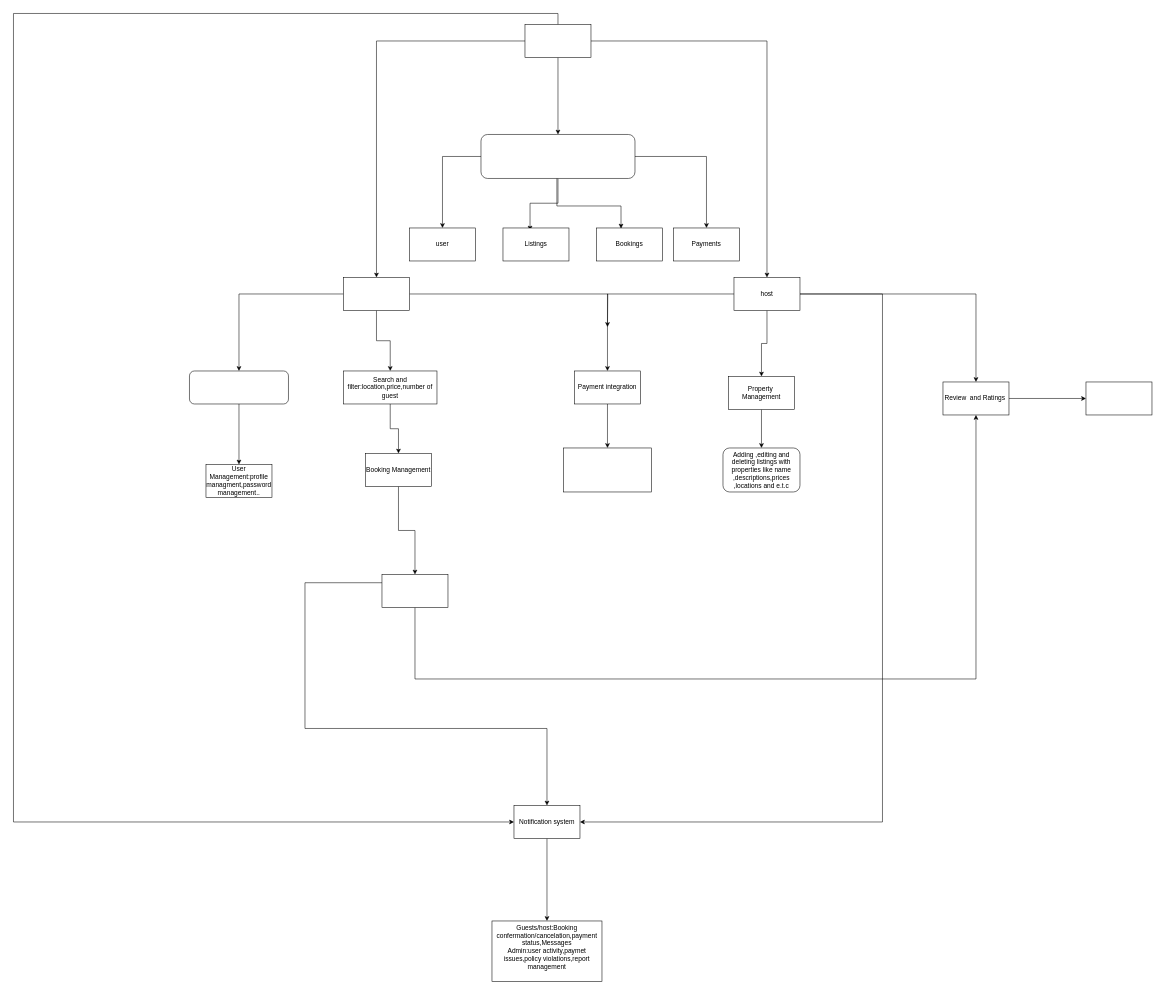
This 1162x991 diagram has some shape labels left out. Here are the shapes that lost their labels. From the top down, the centre of each, then its label:
At (x=557, y=40): "Admin".
At (x=557, y=156): "Admin Dashboard".
At (x=376, y=293): "Guest".
At (x=238, y=387): "authentication,registration".
At (x=1118, y=398): "Gusts can leave a review and ratings. hosts can answer to reviews.".
At (x=607, y=469): "Upfront Payment by guests Withdraws by hosts multiple currency support".
At (x=414, y=590): "Create ,Tracking status and canceling".
